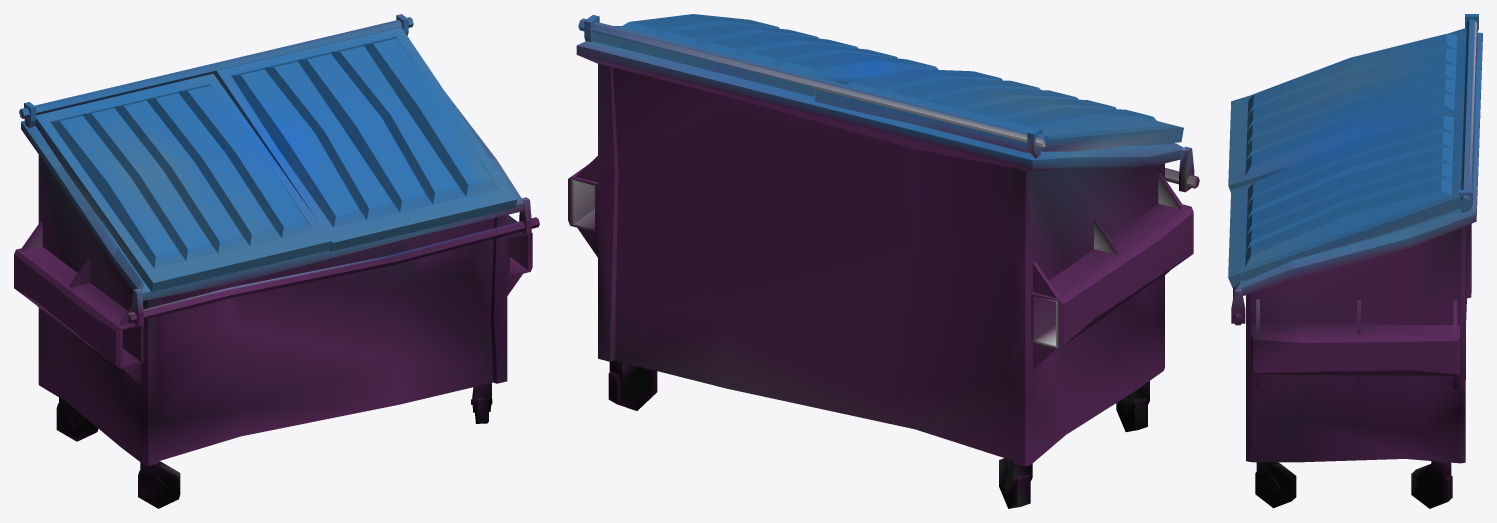
File: Dumpster.fbx
The picture shows the model from 3 angles, left to right: view 1: azimuth 30°, elevation 25°; view 2: azimuth 150°, elevation 25°; view 3: azimuth 270°, elevation 25°; orthographic projection. The views are drawn at different scales.
Visible parts, largest first — view 1: SM_Prop_Skip_02; view 2: SM_Prop_Skip_02; view 3: SM_Prop_Skip_02.
Part boxes in pixels (box(x1,y1,x2,y2)): SM_Prop_Skip_02: box(14, 14, 539, 508); SM_Prop_Skip_02: box(568, 14, 1199, 508); SM_Prop_Skip_02: box(1228, 14, 1482, 508).
Bounding box in the file's own units: 611 × 465 × 332.
